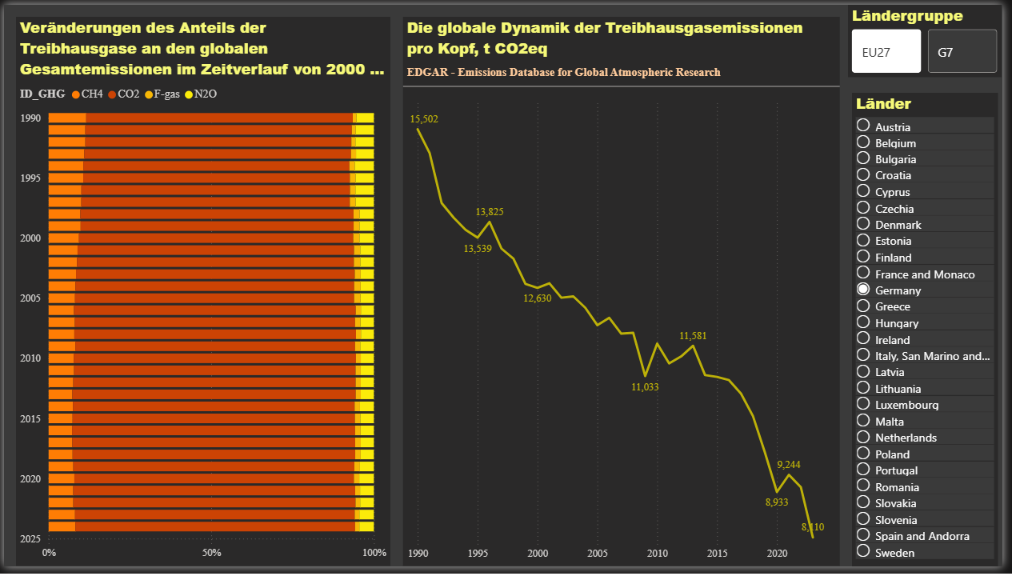

What the dashboard file says about the page in this screenshot:
{"tool":"powerbi","page":{"name":"Weltdynamik_GHG_00-24","canvas":[1280,720],"ordinal":2},"visuals":[{"type":"hundredPercentStackedBarChart","title":"Veränderungen des Anteils der Treibhausgase an den globalen Gesamtemissionen im Zeitverlauf von 2000 bis 2024","fields":{"Category":["dim_year.Year"],"Y":["fact_THG.Total THG"],"Series":["dim_THG.ID_GHG"]},"box":[16,16,480,704],"z":0},{"type":"listSlicer","title":"Länder","fields":{"Values":["dim_country.Country"]},"box":[1087.2,112.8,187.2,607.7],"z":1000},{"type":"advancedSlicerVisual","title":"Ländergruppe","fields":{"Values":["dim_group.Group_Name"]},"box":[1082.4,0,197.1,92.6],"z":2000},{"type":"lineChart","title":" Die globale Dynamik der Treibhausgasemissionen pro Kopf, t CO2eq  ","fields":{"Category":["dim_year.Year"],"Y":["select","Kennzahlen.THG_pro_Kopf"]},"box":[512,16,560,704],"z":3000}]}

Visuals, with their boxes in screenshot pixels (x1, y1, x2, y2), scaled from the page's 1280x720 canvas onto the 1012x574 screenshot:
"Veränderungen des Anteils der Treibhausgase an den globalen Gesamtemissionen im Zeitverlauf von 2000 bis 2024" hundredPercentStackedBarChart: l=13, t=13, r=392, b=573
"Länder" listSlicer: l=860, t=90, r=1008, b=573
"Ländergruppe" advancedSlicerVisual: l=856, t=0, r=1011, b=74
" Die globale Dynamik der Treibhausgasemissionen pro Kopf, t CO2eq  " lineChart: l=405, t=13, r=848, b=573
